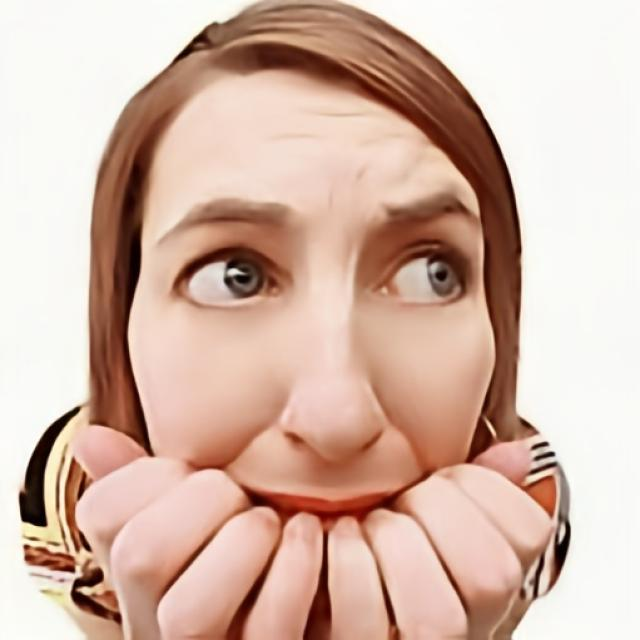fear: (126, 65, 498, 622)
